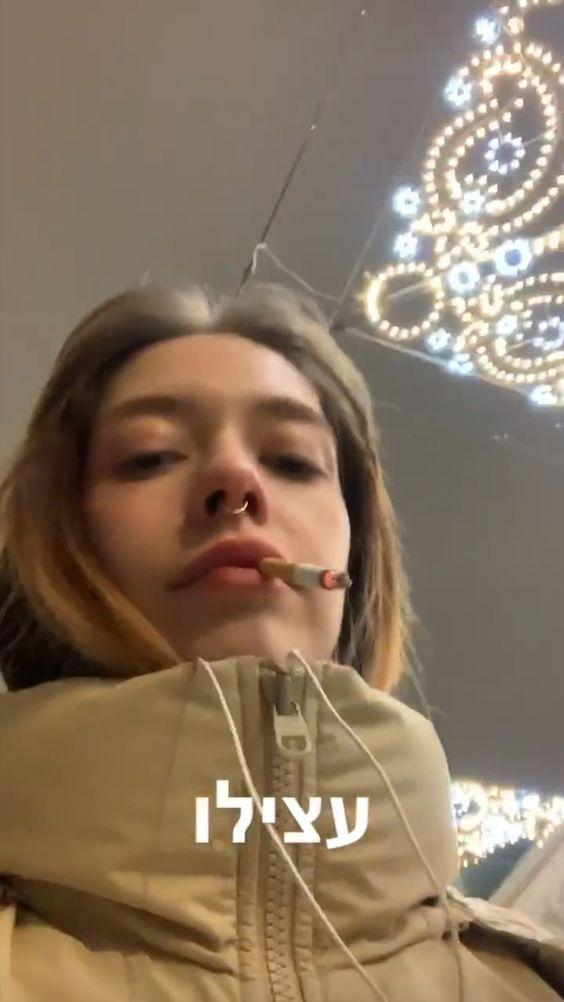cigarette: (256, 556, 353, 591)
